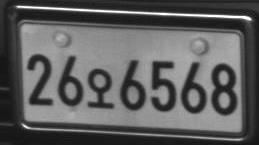2: (25, 53, 53, 106)
5: (149, 59, 177, 112)
6: (57, 54, 84, 106), (119, 59, 146, 111), (181, 61, 207, 114)
8: (210, 62, 238, 116)
오: (87, 68, 114, 109)
